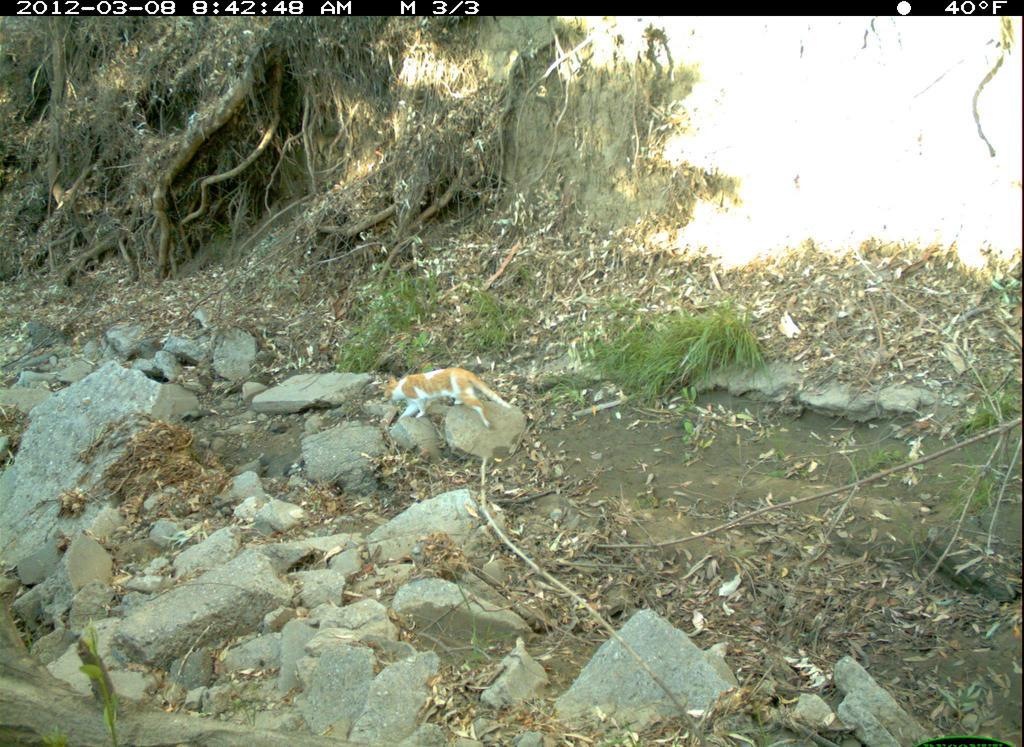cat: (374, 361, 516, 442)
